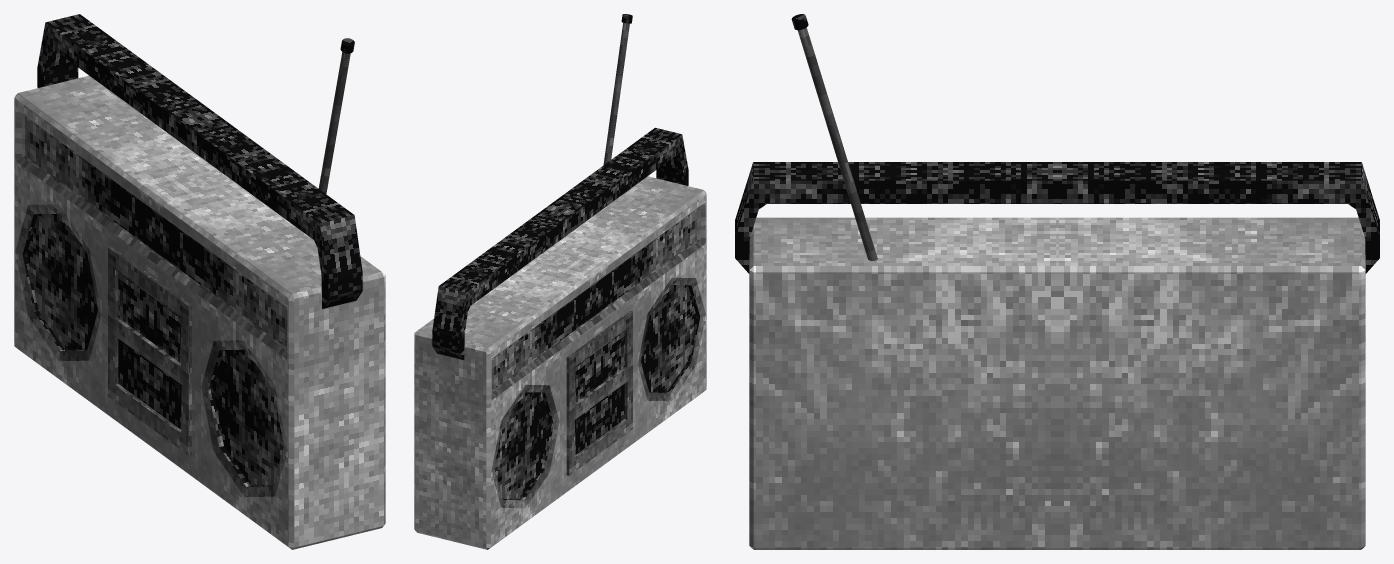
File: radio.glb
3 renders of one model, left to right at view 1: azimuth 30°, elevation 25°; view 2: azimuth 150°, elevation 25°; view 3: azimuth 270°, elevation 25°, orthographic. The views are drawn at different scales.
Parts seen in each view (by area): view 1: Radio; view 2: Radio; view 3: Radio.
Boxes of the visible parts, box(x1,y1,x2,y2) form: Radio: box(14, 14, 385, 549); Radio: box(414, 14, 706, 549); Radio: box(735, 14, 1379, 549).
Size of the model in its own units: 0.2526 by 1.14 by 1.27.
3 materials, 3 textured.
